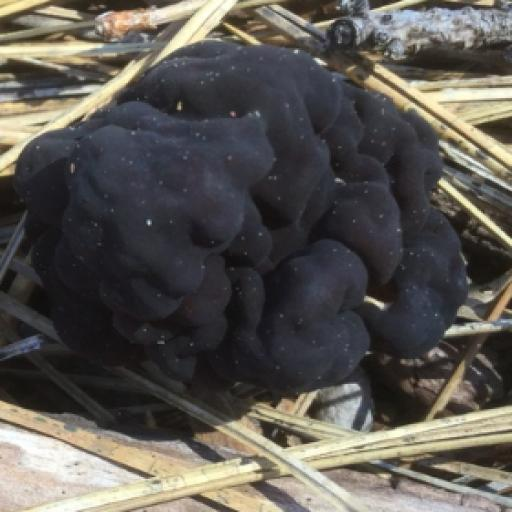mushroom: (0, 0, 490, 450)
